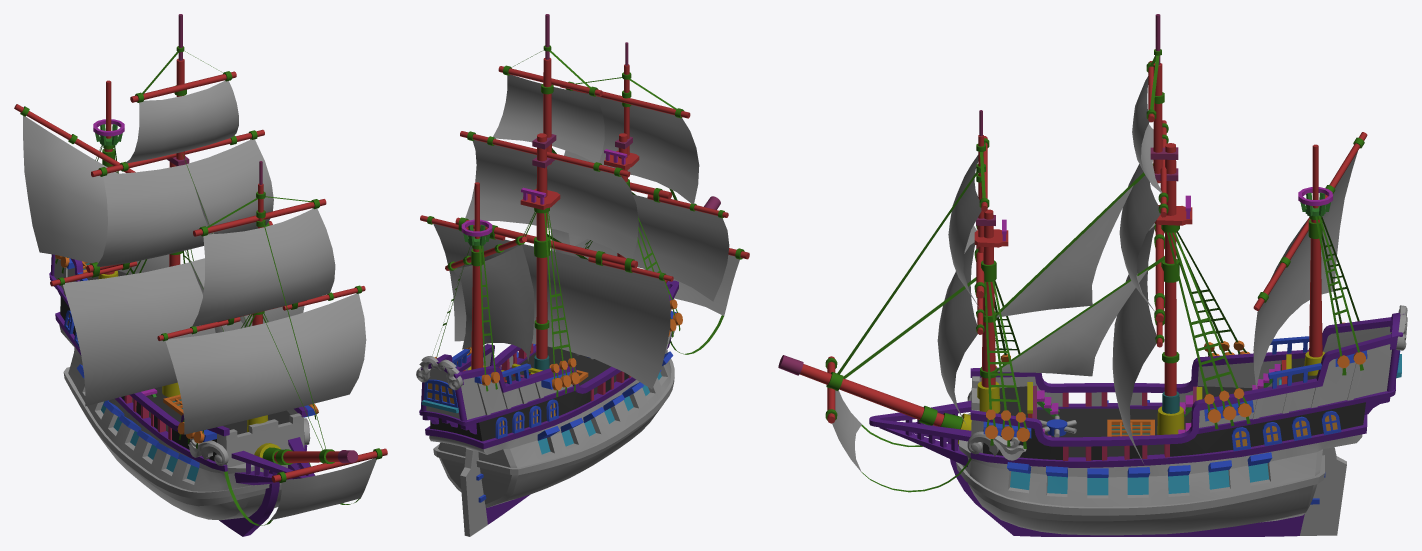
Rendered from Schooner_mm.fbx.
3 views of the same model, side by side, from view 1: azimuth 30°, elevation 25°; view 2: azimuth 150°, elevation 25°; view 3: azimuth 270°, elevation 25° (orthographic). The views are drawn at different scales.
Parts seen in each view (by area): view 1: Sails, Schooner, Upgrade_02, Upgrade_01; view 2: Sails, Schooner, Upgrade_02, Rudder, Upgrade_01; view 3: Schooner, Sails, Upgrade_02, Rudder, Upgrade_01.
Part boxes in pixels (x1,y1,x2,y2): Sails: (23, 80, 376, 520); Schooner: (14, 14, 387, 536); Upgrade_02: (63, 267, 281, 498); Upgrade_01: (188, 418, 310, 465); Sails: (433, 74, 739, 389); Schooner: (419, 14, 749, 524); Upgrade_02: (433, 359, 674, 475); Rudder: (460, 448, 487, 536); Upgrade_01: (416, 331, 674, 403); Schooner: (778, 14, 1403, 536); Sails: (832, 76, 1357, 471); Upgrade_02: (956, 363, 1360, 515); Rudder: (1300, 447, 1346, 535); Upgrade_01: (967, 305, 1407, 460).
Bounding box in the file's own units: 1063 × 1876 × 2058.
